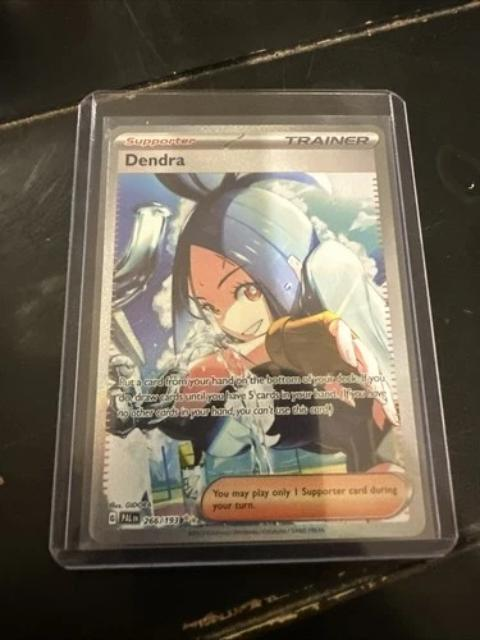Card: (83, 120, 431, 552)
Name: (118, 149, 193, 175)
